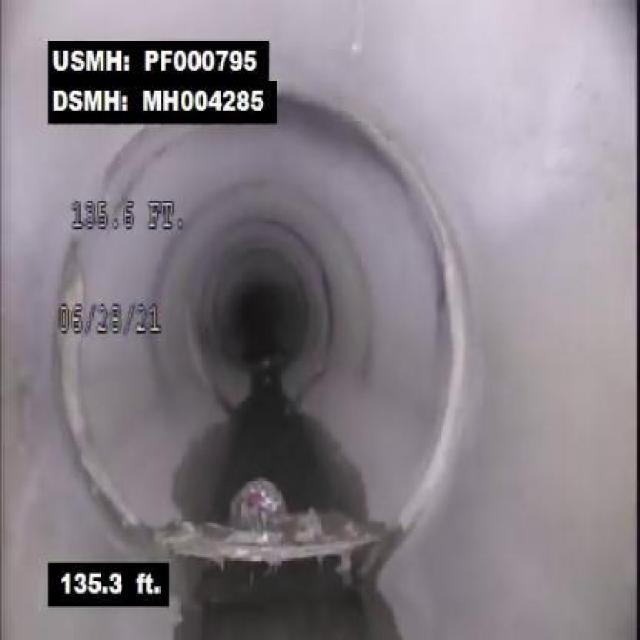Debris: (228, 471, 363, 560)
Joint offset: (51, 340, 154, 538), (422, 197, 476, 518)
